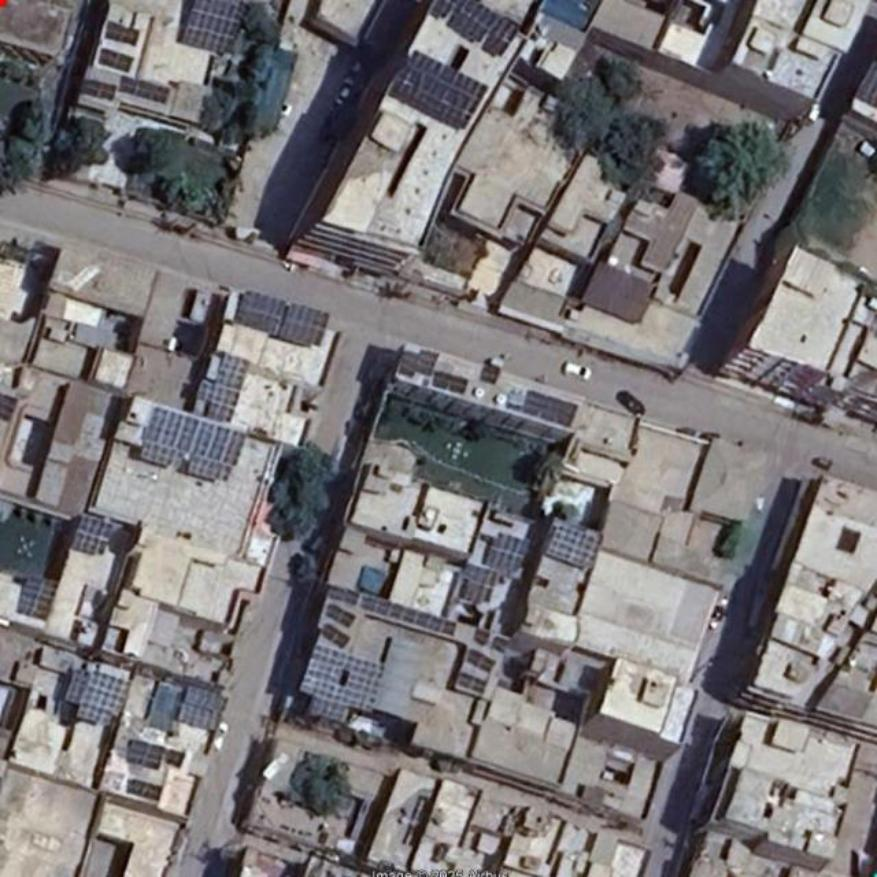Solarpanel: (140, 407, 246, 485), (393, 49, 489, 128), (329, 585, 455, 636), (301, 645, 383, 713), (427, 0, 519, 59), (237, 288, 333, 342), (59, 665, 131, 733), (182, 0, 250, 53), (206, 354, 251, 421), (544, 522, 601, 567), (483, 529, 533, 576), (176, 686, 227, 732), (525, 391, 580, 426), (16, 576, 60, 618), (70, 518, 112, 558), (462, 562, 500, 604), (118, 77, 170, 104), (319, 622, 352, 647), (105, 22, 138, 46), (436, 370, 468, 393), (325, 604, 357, 626), (81, 78, 114, 99), (99, 51, 133, 71), (466, 650, 493, 675), (417, 351, 439, 374), (459, 674, 485, 692), (400, 350, 419, 373)
